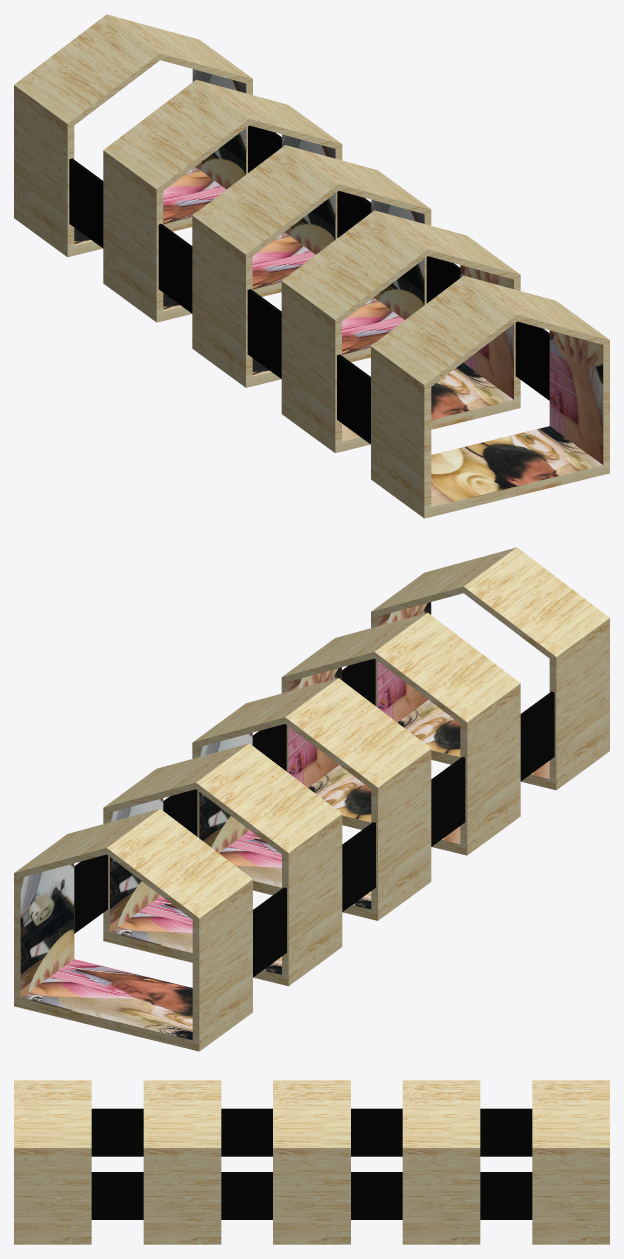
Rendered from Sección casas.fbx.
The picture shows the model from 3 angles, top to bottom: view 1: azimuth 30°, elevation 25°; view 2: azimuth 150°, elevation 25°; view 3: azimuth 270°, elevation 25°; orthographic projection. The views are drawn at different scales.
Parts seen in each view (by area): view 1: Cubículo 1, Cubículo 2, Cubículo 4, Cubículo 3, Cubículo 5, Guía 1, Guía 2; view 2: Cubículo 5, Cubículo 4, Cubículo 1, Cubículo 2, Cubículo 3, Guía 1, Guía 2; view 3: Cubículo 4, Cubículo 2, Cubículo 5, Cubículo 3, Cubículo 1, Guía 1, Guía 2.
Part boxes in pixels (box(x1,y1,x2,y2)): Cubículo 1: box(371, 275, 609, 518); Cubículo 2: box(281, 210, 520, 453); Cubículo 4: box(103, 79, 342, 322); Cubículo 3: box(192, 145, 431, 387); Cubículo 5: box(14, 14, 252, 257); Guía 1: box(69, 158, 370, 444); Guía 2: box(248, 125, 549, 400); Cubículo 5: box(14, 809, 252, 1051); Cubículo 4: box(103, 743, 342, 986); Cubículo 1: box(371, 547, 609, 790); Cubículo 2: box(281, 613, 520, 855); Cubículo 3: box(192, 678, 431, 920); Guía 1: box(253, 691, 554, 977); Guía 2: box(74, 658, 375, 933); Cubículo 4: box(402, 1080, 480, 1244); Cubículo 2: box(143, 1080, 221, 1244); Cubículo 5: box(532, 1080, 609, 1244); Cubículo 3: box(273, 1080, 350, 1244); Cubículo 1: box(14, 1080, 91, 1244); Guía 1: box(91, 1108, 532, 1156); Guía 2: box(91, 1172, 532, 1219).
Bounding box in the file's own units: 3002 × 11501 × 2802.
3 materials, 2 textured.
